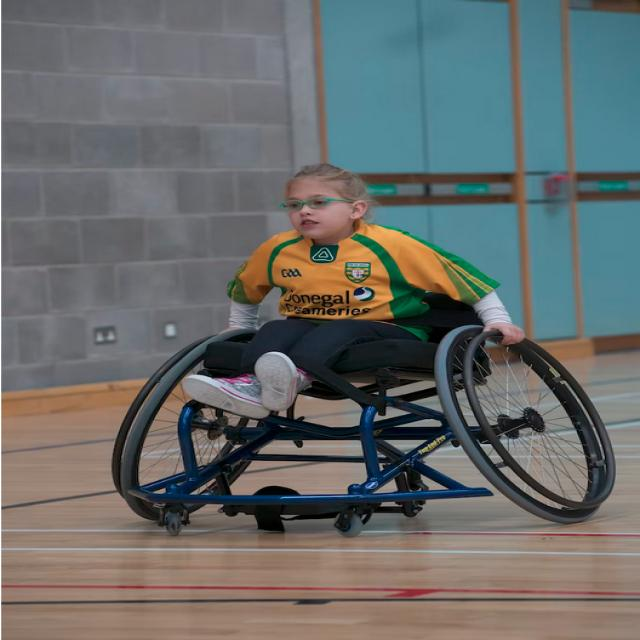wheelchairs: (118, 290, 613, 537)
